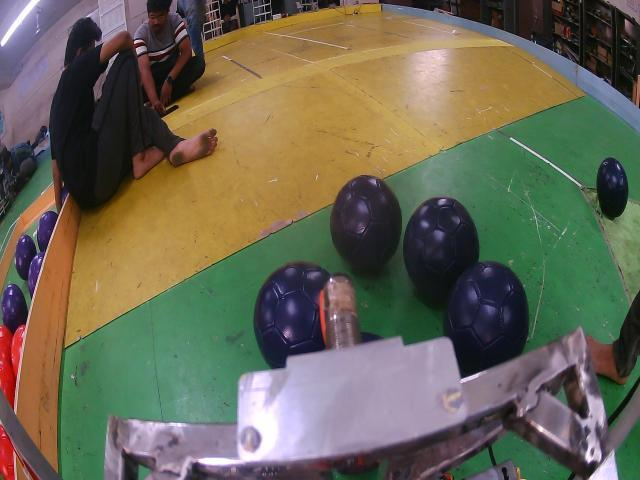jambhalya: (1, 283, 28, 333), (15, 235, 36, 280), (36, 210, 58, 252), (28, 252, 45, 298)
kaalyya: (444, 262, 529, 373), (402, 197, 480, 302), (254, 262, 330, 368), (330, 175, 402, 272), (596, 158, 629, 219)
